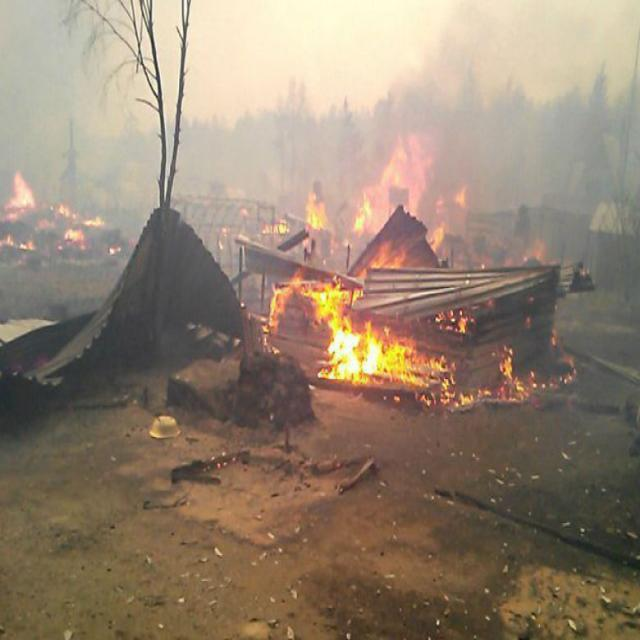Fire: (272, 243, 582, 409), (0, 170, 134, 266), (263, 191, 442, 238), (383, 134, 433, 188), (453, 188, 468, 210)
Smoke: (2, 2, 380, 168), (382, 3, 640, 130), (435, 133, 640, 185), (472, 188, 640, 238)
